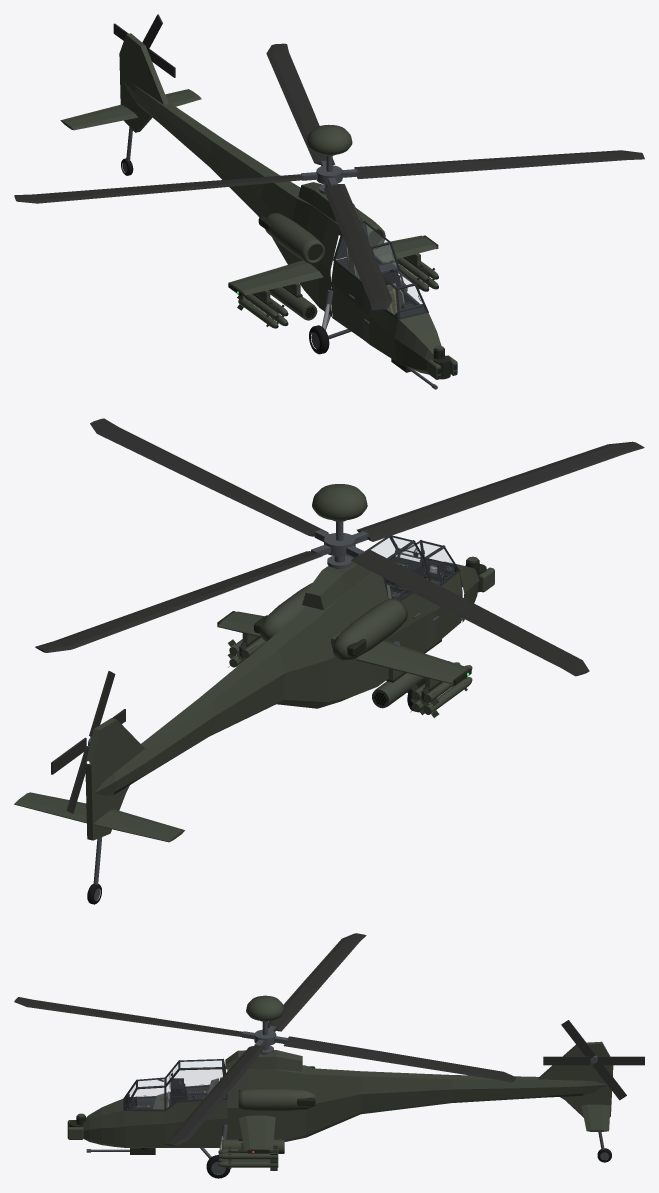
File: apache_cockpit.glb
3 renders of one model, top to bottom at view 1: azimuth 30°, elevation 25°; view 2: azimuth 150°, elevation 25°; view 3: azimuth 270°, elevation 25°, orthographic. The views are drawn at different scales.
Visible parts, largest first — view 1: Fuselage, Main_Rotor, Tail, Wing_Right, Nacelle_Right, FCR_Radome, Wing_Left, Canopy_Frame, Cockpit_Shell, Landing_Gear, Store_Right_Inboard, Rotor_Pylon (+2 smaller); view 2: Fuselage, Main_Rotor, Tail, Wing_Right, Nacelle_Right, Rotor_Pylon, FCR_Radome, Tail_Rotor, Nacelle_Left, Store_Right_Inboard, Wing_Left, Canopy_Frame (+1 smaller); view 3: Fuselage, Main_Rotor, Tail, Tail_Rotor, Nacelle_Left, Wing_Left, Rotor_Pylon, Canopy_Frame, FCR_Radome, Cockpit_Shell, Landing_Gear, Hellfire_Left_2 (+1 smaller).
Boxes of the visible parts, x1=… form: Fuselage: x1=122, y1=80, x2=441, y2=374; Main_Rotor: x1=14, y1=43, x2=644, y2=310; Tail: x1=60, y1=33, x2=201, y2=175; Wing_Right: x1=228, y1=260, x2=323, y2=302; Nacelle_Right: x1=258, y1=213, x2=325, y2=264; FCR_Radome: x1=306, y1=124, x2=352, y2=171; Wing_Left: x1=373, y1=235, x2=438, y2=265; Canopy_Frame: x1=333, y1=220, x2=428, y2=319; Cockpit_Shell: x1=336, y1=223, x2=425, y2=317; Landing_Gear: x1=309, y1=290, x2=351, y2=354; Store_Right_Inboard: x1=268, y1=286, x2=317, y2=320; Rotor_Pylon: x1=298, y1=182, x2=362, y2=222; Fuselage: x1=95, y1=561, x2=479, y2=795; Main_Rotor: x1=35, y1=418, x2=644, y2=676; Tail: x1=14, y1=718, x2=184, y2=904; Wing_Right: x1=356, y1=640, x2=471, y2=688; Nacelle_Right: x1=331, y1=598, x2=407, y2=660; Rotor_Pylon: x1=302, y1=555, x2=371, y2=610; FCR_Radome: x1=312, y1=484, x2=367, y2=540; Tail_Rotor: x1=51, y1=671, x2=125, y2=813; Nacelle_Left: x1=254, y1=583, x2=312, y2=641; Store_Right_Inboard: x1=372, y1=672, x2=424, y2=708; Wing_Left: x1=217, y1=611, x2=264, y2=644; Canopy_Frame: x1=365, y1=535, x2=460, y2=598; Fuselage: x1=82, y1=1067, x2=607, y2=1147; Main_Rotor: x1=14, y1=933, x2=516, y2=1145; Tail: x1=538, y1=1041, x2=613, y2=1162; Tail_Rotor: x1=543, y1=1020, x2=644, y2=1100; Nacelle_Left: x1=238, y1=1088, x2=315, y2=1111; Wing_Left: x1=239, y1=1115, x2=275, y2=1153; Rotor_Pylon: x1=225, y1=1045, x2=302, y2=1071; Canopy_Frame: x1=123, y1=1058, x2=227, y2=1111; FCR_Radome: x1=246, y1=995, x2=284, y2=1035; Cockpit_Shell: x1=125, y1=1066, x2=225, y2=1109; Landing_Gear: x1=200, y1=1124, x2=230, y2=1178; Hellfire_Left_2: x1=218, y1=1150, x2=278, y2=1162.
Size of what is drawn, in the model's own units: 13.79 by 4.95 by 17.31.
34 materials, 14 textured.
